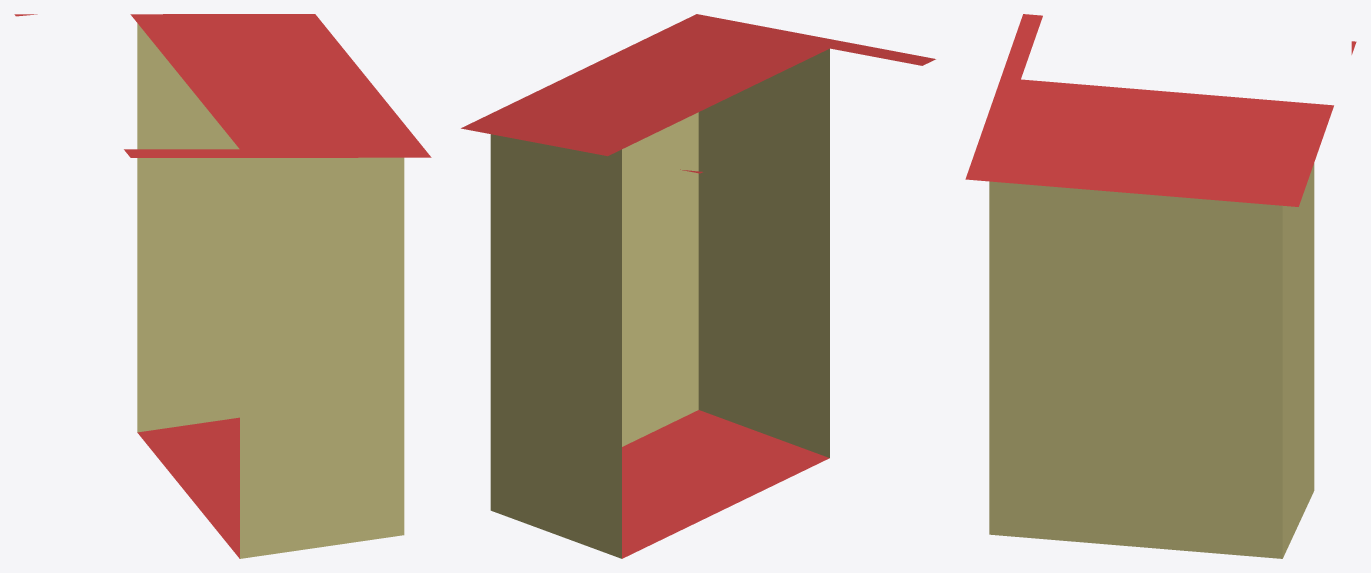
3 views of the same model, side by side, from view 1: azimuth 30°, elevation 25°; view 2: azimuth 150°, elevation 25°; view 3: azimuth 270°, elevation 25° (orthographic). The views are drawn at different scales.
Size of the model in its own units: 4.42 by 4.8 by 5.45.
